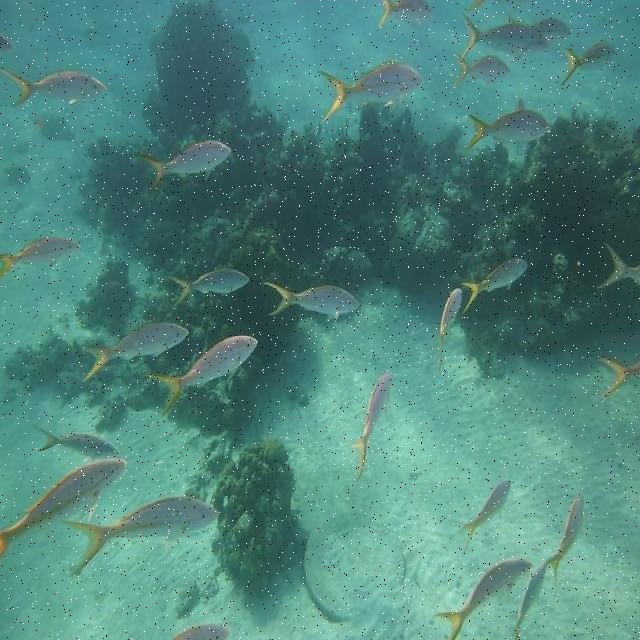fish: (72, 494, 217, 578), (0, 460, 126, 553), (141, 334, 257, 419), (433, 556, 535, 639), (317, 62, 424, 126), (83, 324, 188, 384), (133, 139, 232, 194), (454, 478, 515, 563), (347, 373, 393, 481), (0, 65, 107, 111), (468, 97, 550, 150), (261, 281, 357, 323), (547, 493, 589, 588), (462, 12, 545, 60), (0, 234, 82, 279), (461, 258, 530, 308), (164, 267, 249, 306), (33, 423, 116, 459), (560, 42, 615, 85), (515, 563, 546, 637), (438, 290, 463, 370), (457, 51, 510, 82), (536, 15, 568, 44)
